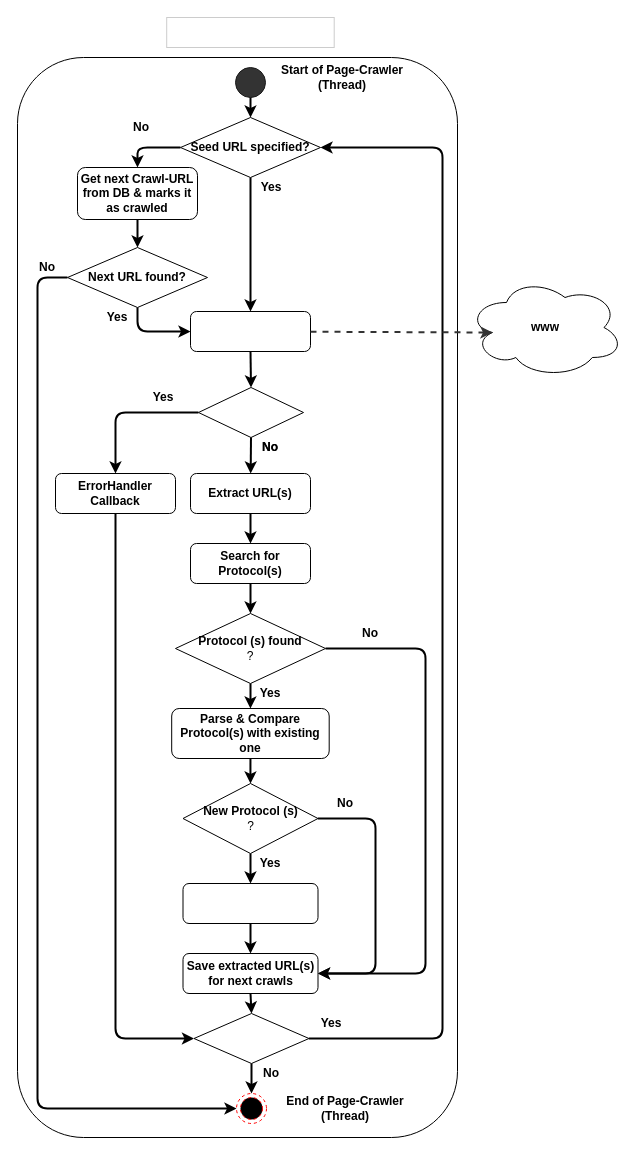
This 641x1155 diagram has some shape labels left out. Each missing label, with the box of its shape:
( Seed URL to crawl, Timeout): (166, 16, 334, 48)
Errors ?: (198, 386, 304, 438)
Fetch Page (handle errors): (190, 310, 310, 352)
Save new Protocol (s): (182, 882, 318, 924)
Timeout > 0?: (193, 1012, 309, 1064)
